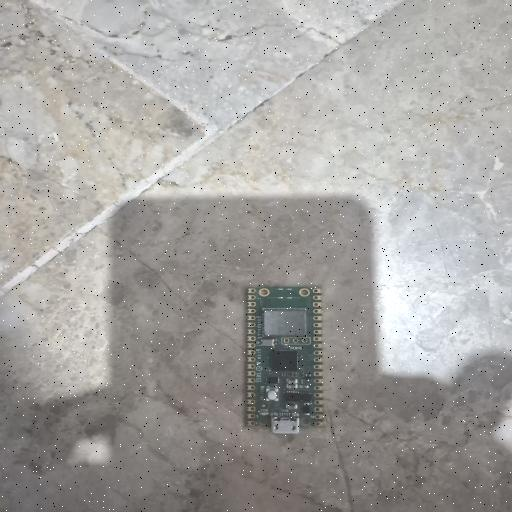raspberry-pi-pico-w: (240, 285, 330, 435)
